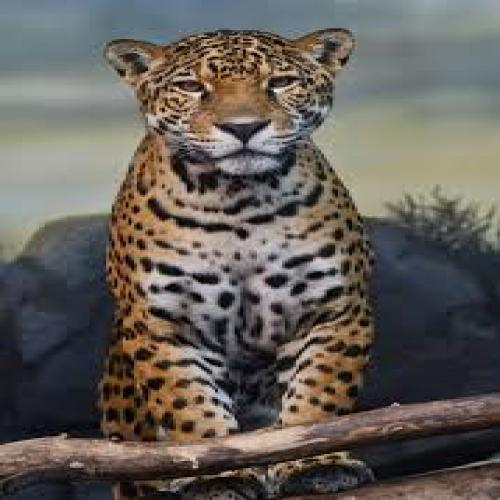jaguar_not-endangered: (97, 24, 387, 500)
